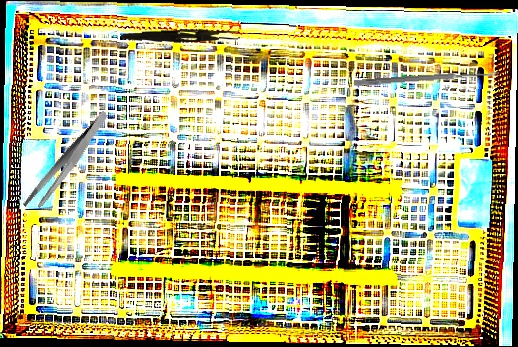Dressing Forceps: (6, 110, 128, 215), (121, 26, 240, 46)
Surgical Spoon: (353, 69, 500, 88)
